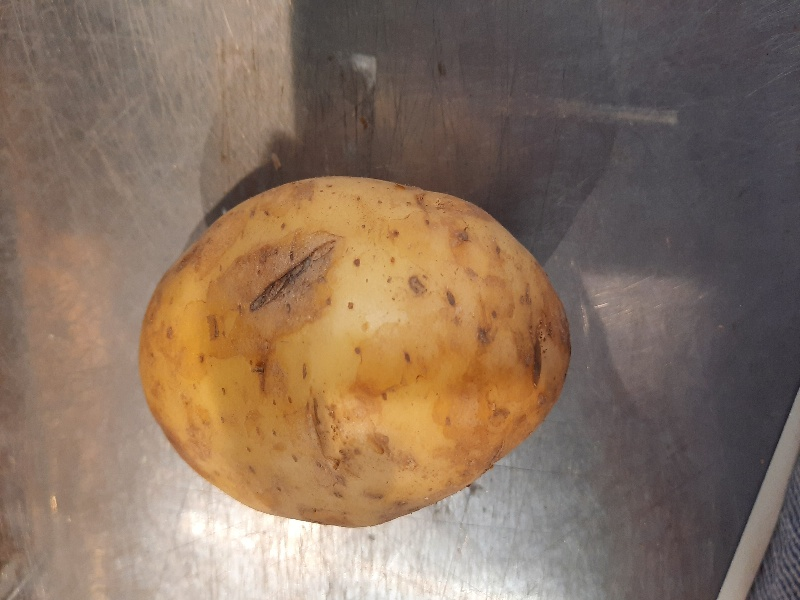vege: (132, 176, 580, 535)
